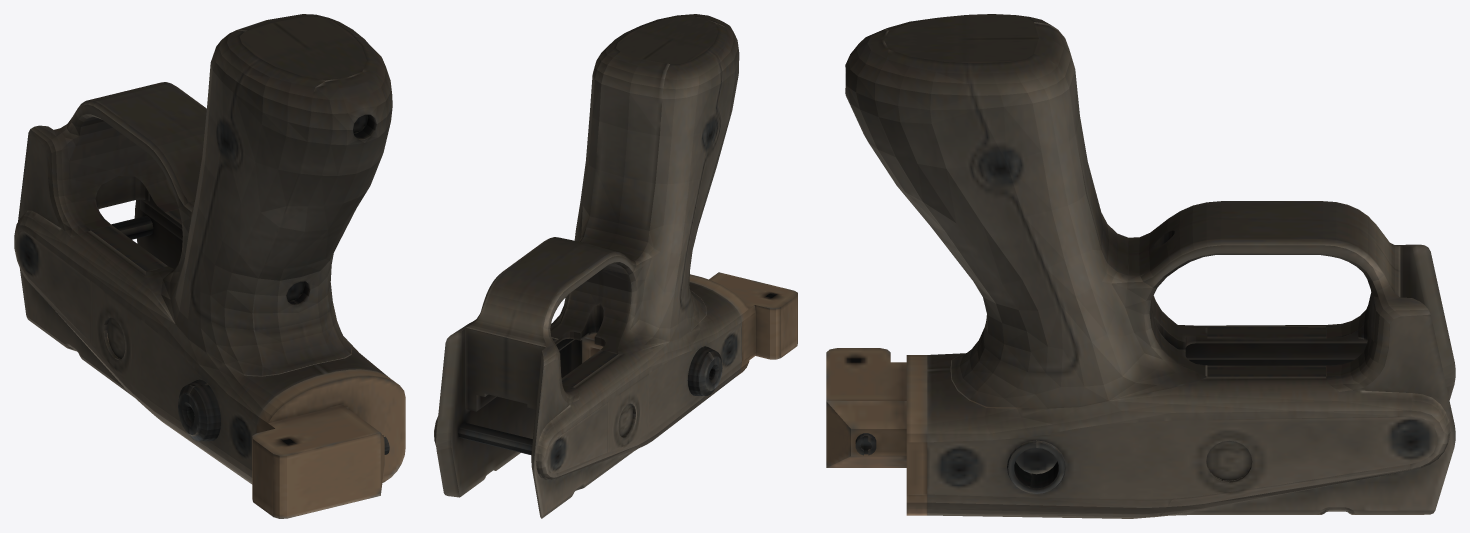
3 renders of one model, left to right at view 1: azimuth 30°, elevation 25°; view 2: azimuth 150°, elevation 25°; view 3: azimuth 270°, elevation 25°, orthographic. The views are drawn at different scales.
Parts seen in each view (by area): view 1: TW_62811e2510e26c1f344e6554_PZ_Import; view 2: TW_62811e2510e26c1f344e6554_PZ_Import; view 3: TW_62811e2510e26c1f344e6554_PZ_Import.
Boxes of the visible parts, bbox=[...] form: TW_62811e2510e26c1f344e6554_PZ_Import: bbox=[14, 14, 405, 518]; TW_62811e2510e26c1f344e6554_PZ_Import: bbox=[434, 14, 797, 518]; TW_62811e2510e26c1f344e6554_PZ_Import: bbox=[826, 14, 1455, 518].
Size of the model in its own units: 0.0309 by 0.0949 by 0.0759.
1 material, 1 textured.
